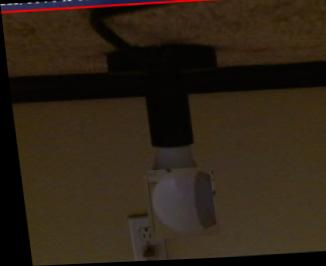Fan: (138, 168, 211, 238)
